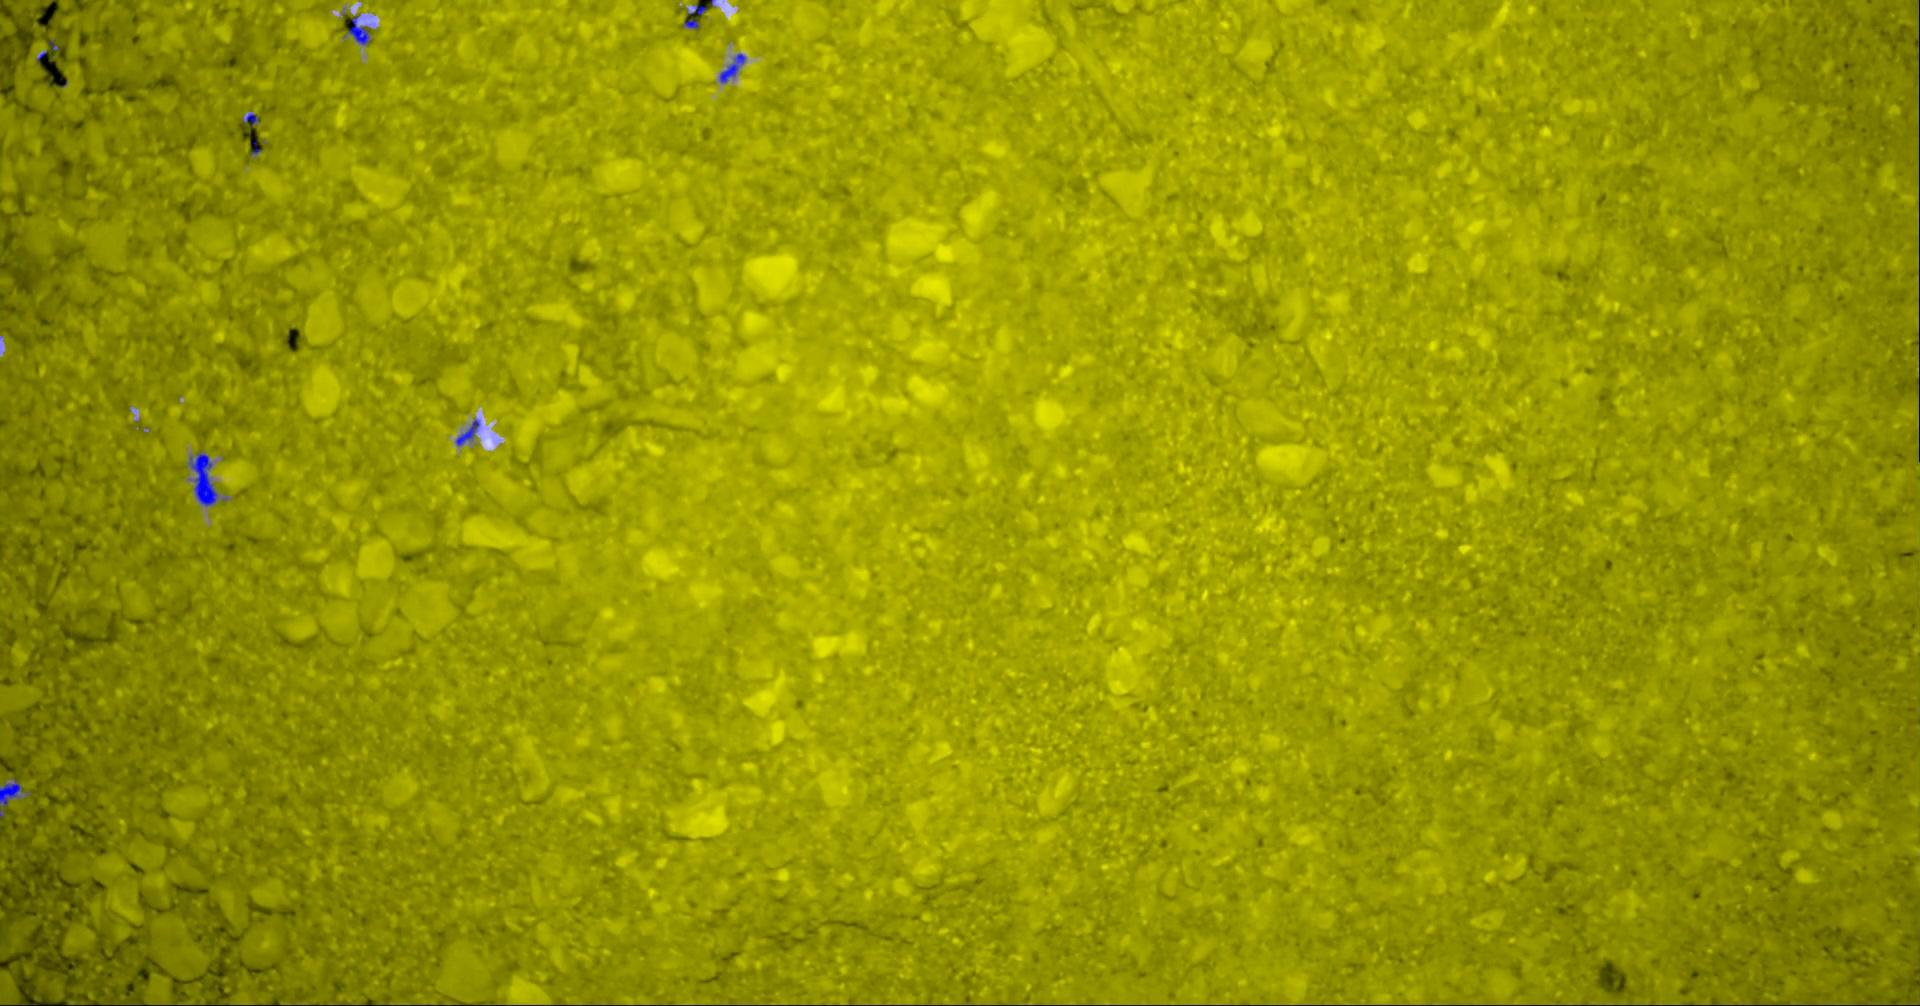ant: (188, 453, 218, 506), (0, 779, 22, 817), (719, 53, 745, 83), (347, 15, 370, 44), (455, 419, 479, 446), (243, 113, 258, 124), (683, 18, 698, 28)
